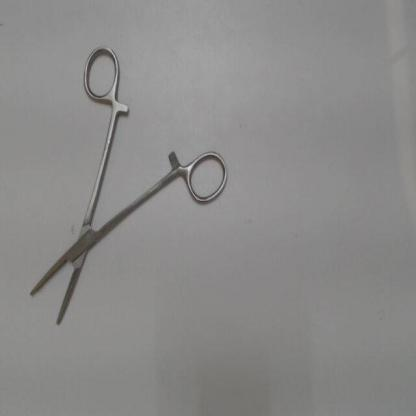Mayo Needle Holder: (22, 37, 232, 337)
